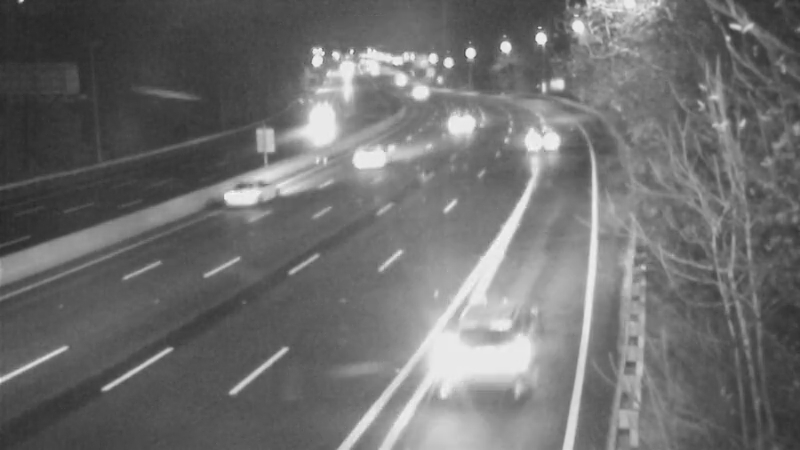vehicle: (425, 305, 535, 415), (329, 117, 409, 197), (192, 157, 272, 237), (398, 69, 448, 119), (430, 92, 480, 142), (510, 111, 560, 161), (281, 102, 331, 152)
